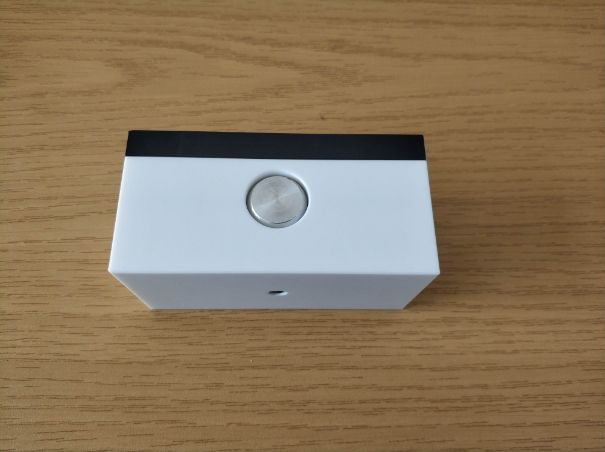black+white+silver: (102, 127, 444, 316)
